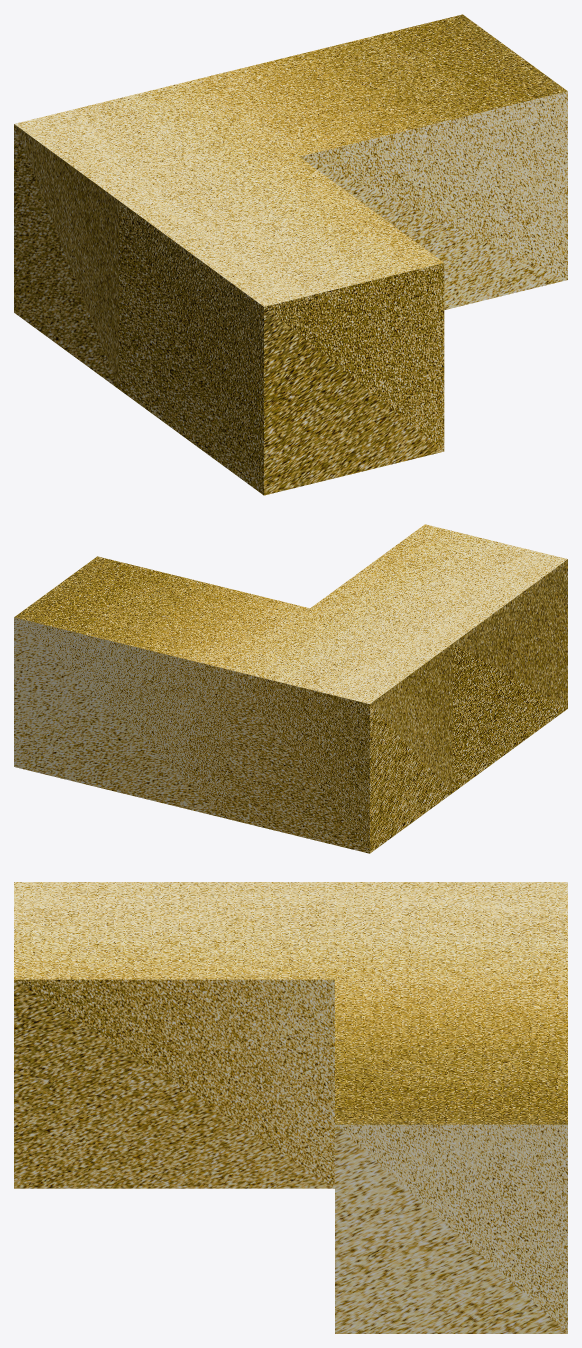
The model's file is Pieza1.fbx.
3 views of the same model, one above another, from view 1: azimuth 30°, elevation 25°; view 2: azimuth 150°, elevation 25°; view 3: azimuth 270°, elevation 25° (orthographic). The views are drawn at different scales.
Parts seen in each view (by area): view 1: Cube.003; view 2: Cube.003; view 3: Cube.003.
Boxes of the visible parts, box(x1,y1,x2,y2) form: Cube.003: box(14, 14, 567, 495); Cube.003: box(14, 524, 567, 853); Cube.003: box(14, 882, 567, 1333).
Size of the model in its own units: 498 by 200 by 480.
